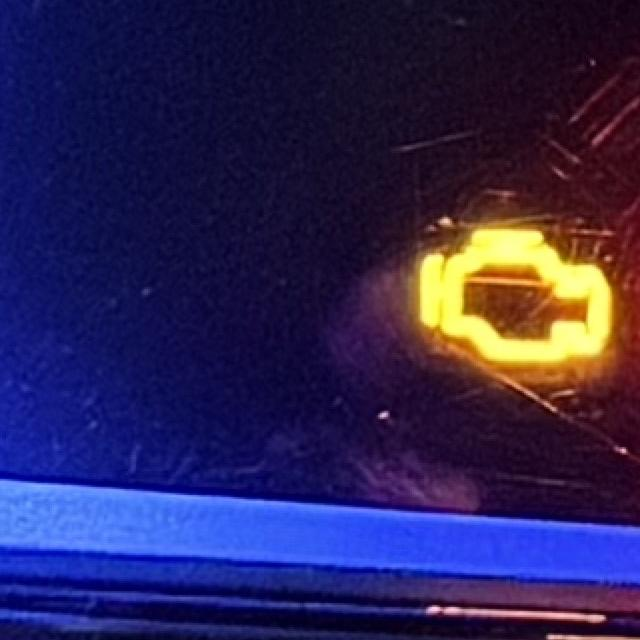Engine Issue: (417, 228, 615, 366)
